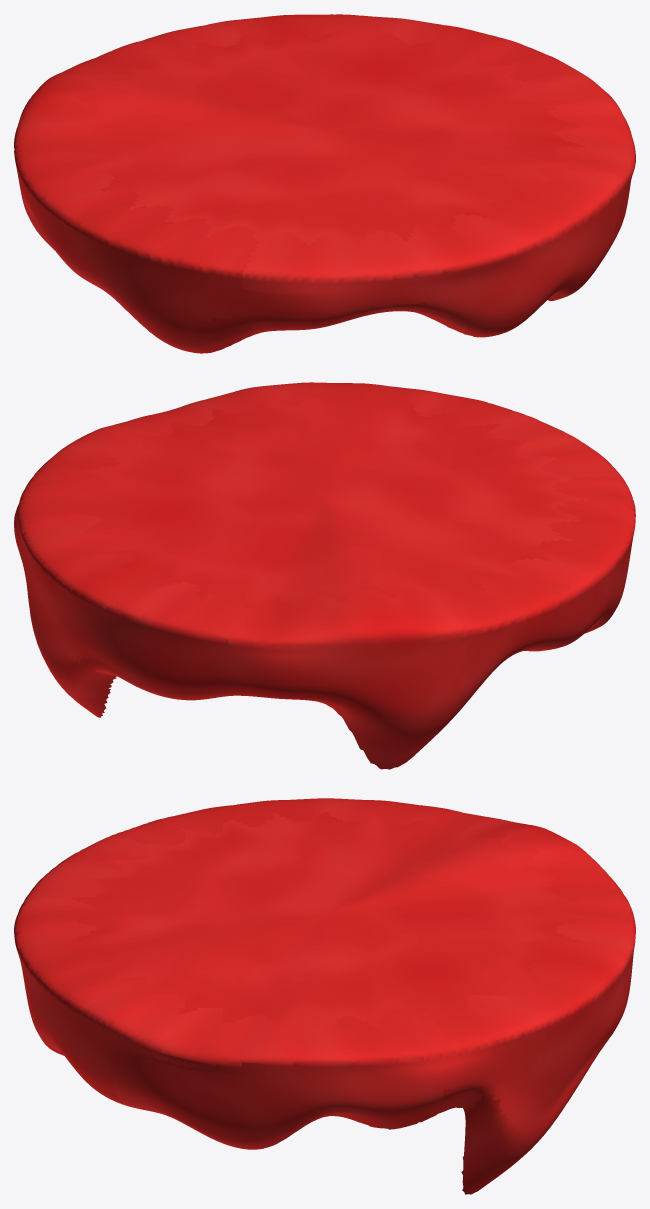
Rendered from PostreSweetHelp_Mermelada_fresa.glb.
The picture shows the model from 3 angles, top to bottom: view 1: azimuth 30°, elevation 25°; view 2: azimuth 150°, elevation 25°; view 3: azimuth 270°, elevation 25°; orthographic projection.
Visible parts, largest first — view 1: Cremaarriba; view 2: Cremaarriba; view 3: Cremaarriba.
Boxes of the visible parts, x1=… form: Cremaarriba: x1=14, y1=14, x2=635, y2=353; Cremaarriba: x1=14, y1=382, x2=635, y2=769; Cremaarriba: x1=14, y1=798, x2=635, y2=1194.
Size of the model in its own units: 2.63 by 0.9738 by 2.64.
1 material, 1 textured.
